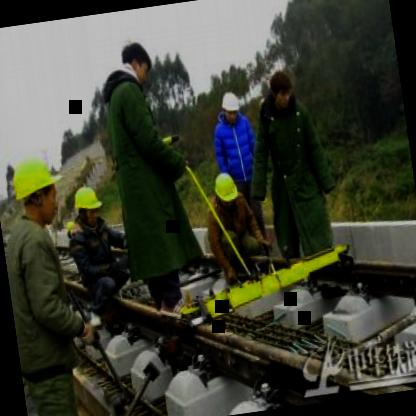head: (258, 67, 302, 115)
helmet: (3, 142, 68, 233), (119, 36, 158, 92), (209, 162, 242, 216), (72, 182, 104, 224), (214, 87, 245, 128)
